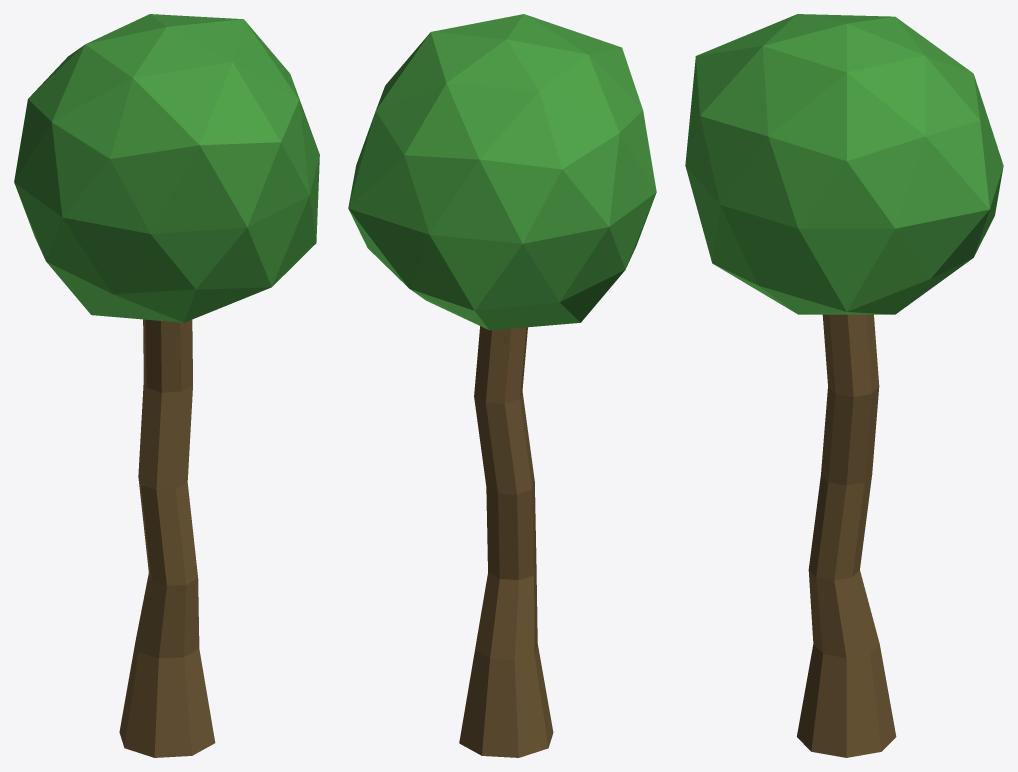
File: tree.fbx
The picture shows the model from 3 angles, left to right: view 1: azimuth 30°, elevation 25°; view 2: azimuth 150°, elevation 25°; view 3: azimuth 270°, elevation 25°; orthographic projection. The views are drawn at different scales.
Parts seen in each view (by area): view 1: Tree; view 2: Tree; view 3: Tree.
Boxes of the visible parts, x1=… form: Tree: x1=14, y1=14, x2=319, y2=757; Tree: x1=348, y1=14, x2=656, y2=757; Tree: x1=685, y1=14, x2=1003, y2=757.
Size of the model in its own units: 385 by 1016 by 411.
